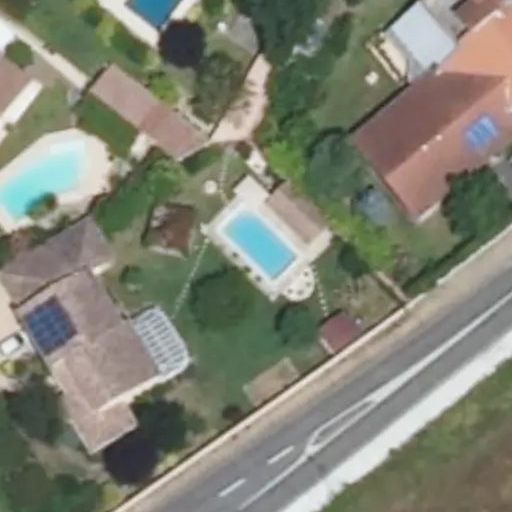pool: (1, 143, 87, 221), (224, 209, 294, 277)
